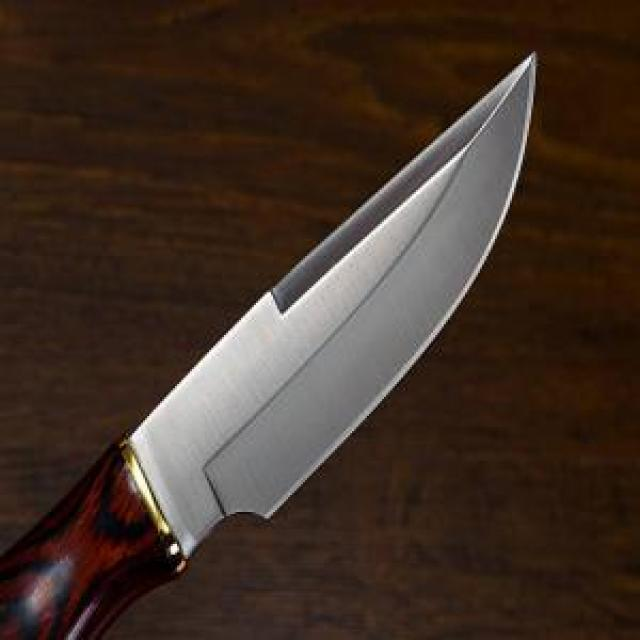knife: (0, 47, 540, 639)
